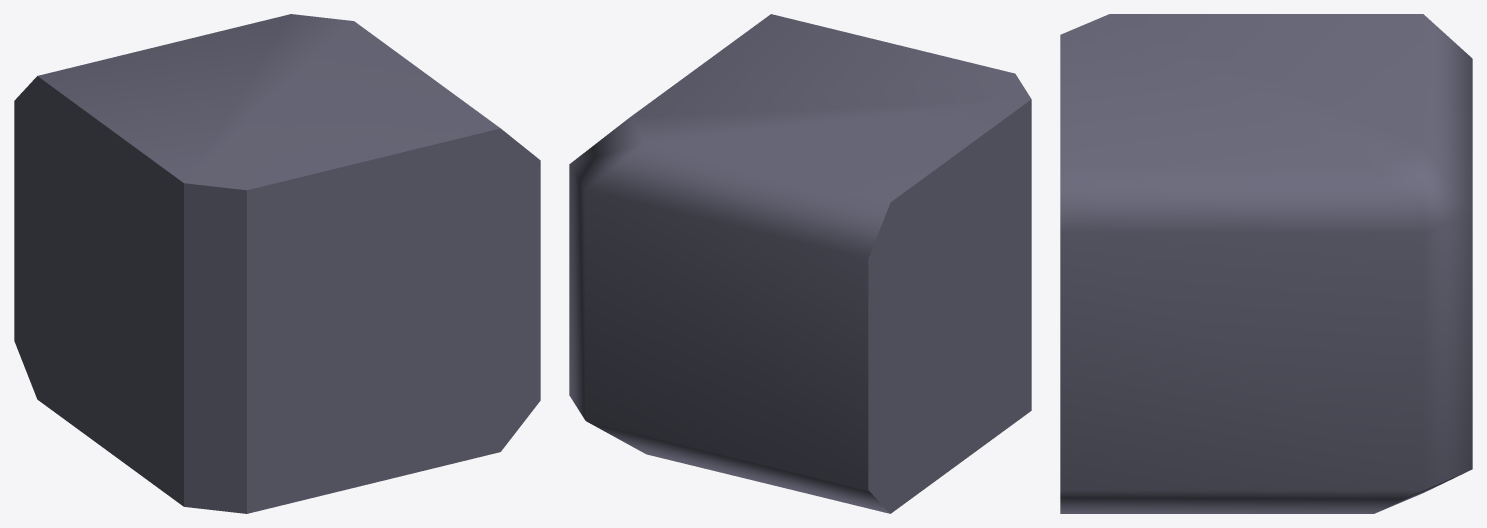
Rendered from mod_sc_tdm_roma_ground_008.fbx.
3 renders of one model, left to right at view 1: azimuth 30°, elevation 25°; view 2: azimuth 150°, elevation 25°; view 3: azimuth 270°, elevation 25°, orthographic. The views are drawn at different scales.
Visible parts, largest first — view 1: mod_sc_tdm_roma_ground_008; view 2: mod_sc_tdm_roma_ground_008; view 3: mod_sc_tdm_roma_ground_008.
Boxes of the visible parts, <box> form: mod_sc_tdm_roma_ground_008: <box>14,14,540,513</box>; mod_sc_tdm_roma_ground_008: <box>569,14,1031,513</box>; mod_sc_tdm_roma_ground_008: <box>1060,14,1472,513</box>.
Size of what is drawn, in the model's own units: 50.11 by 46.44 by 50.11.
Materials: 1 (1 with a texture image).
